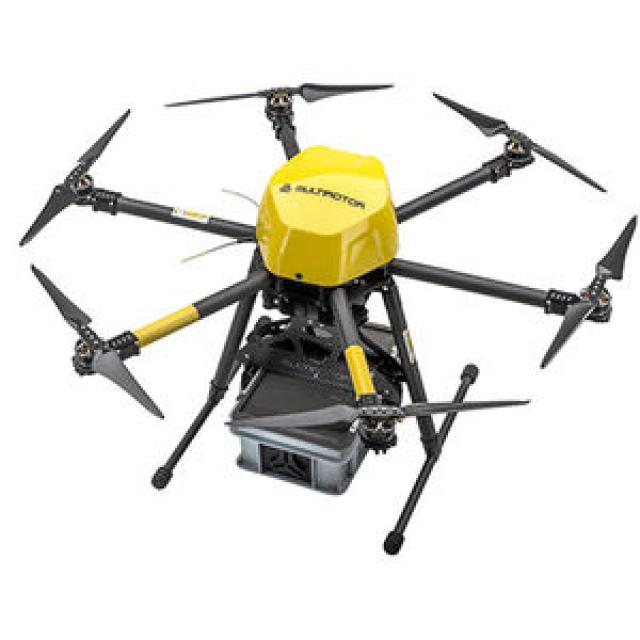drone: (3, 79, 640, 560)
